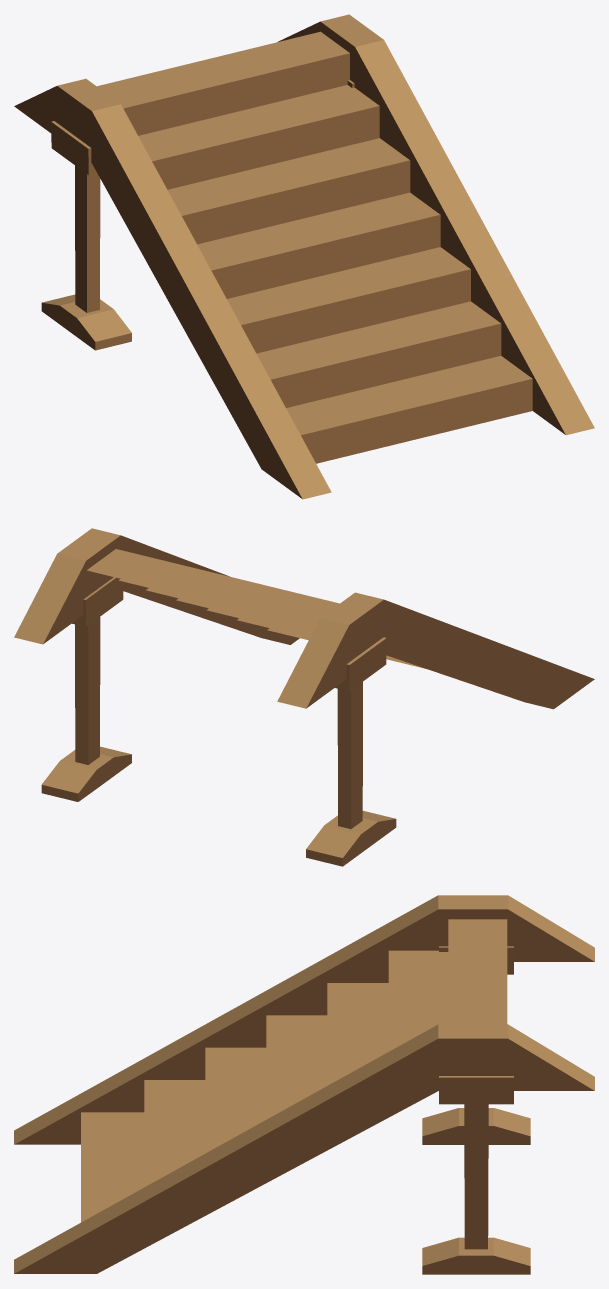
The model's file is stairs-0.glb.
The picture shows the model from 3 angles, top to bottom: view 1: azimuth 30°, elevation 25°; view 2: azimuth 150°, elevation 25°; view 3: azimuth 270°, elevation 25°; orthographic projection.
Parts seen in each view (by area): view 1: stairs-0; view 2: stairs-0; view 3: stairs-0.
Boxes of the visible parts, x1,y1,x2,y2 form: stairs-0: (14, 14, 594, 499); stairs-0: (14, 528, 594, 866); stairs-0: (14, 895, 594, 1274).
Size of the model in its own units: 0.9033 by 0.6704 by 1.5.
